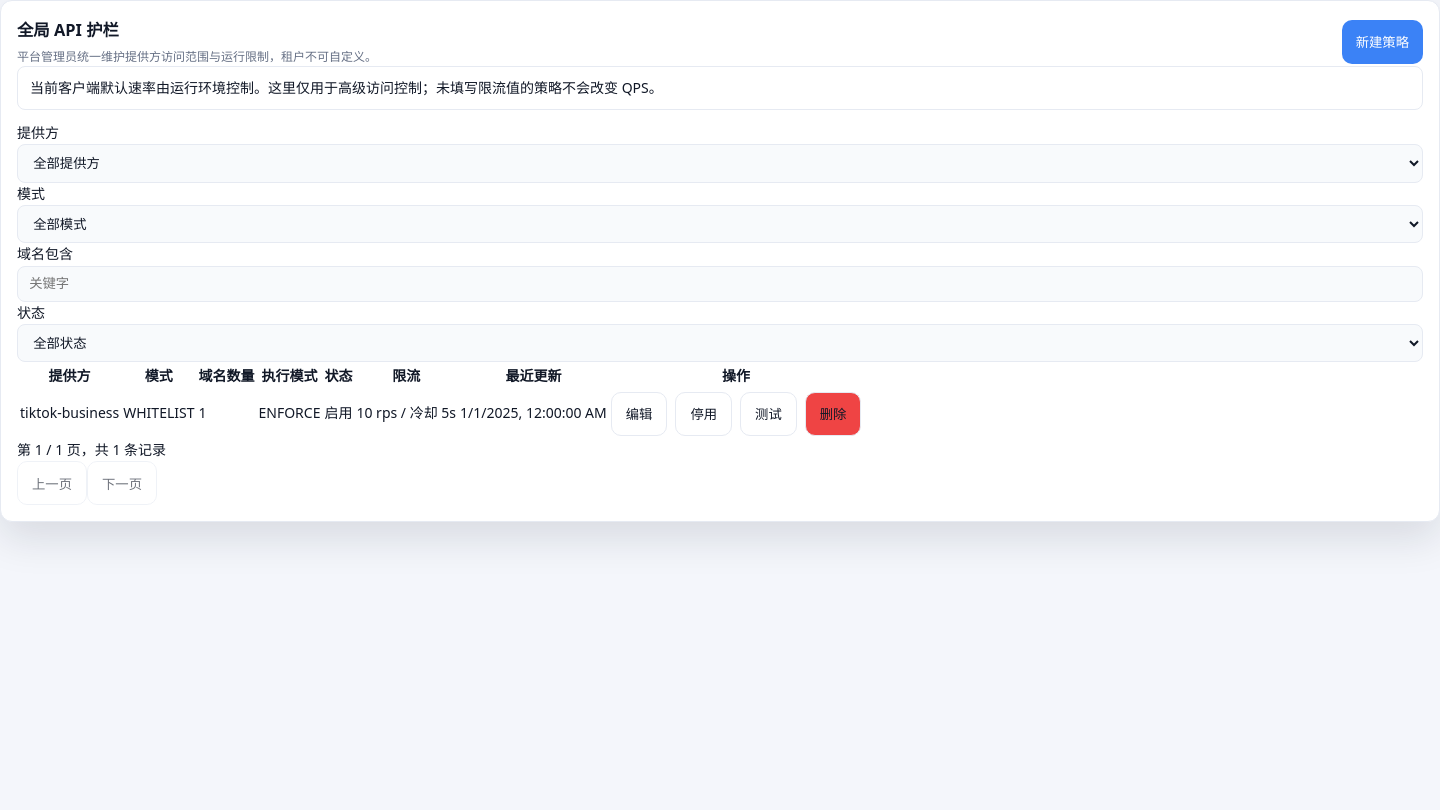
Scenario: PlatformPolicies page › reverts optimistic toggle on failure
Check: the row "tiktok-business" is shown, box x1=19 y1=391 x2=862 y2=437
What coordinates should you click on to do the following:
click the button "停用"
I would click on:
 (704, 414)
Its box is x1=675 y1=392 x2=732 y2=436.
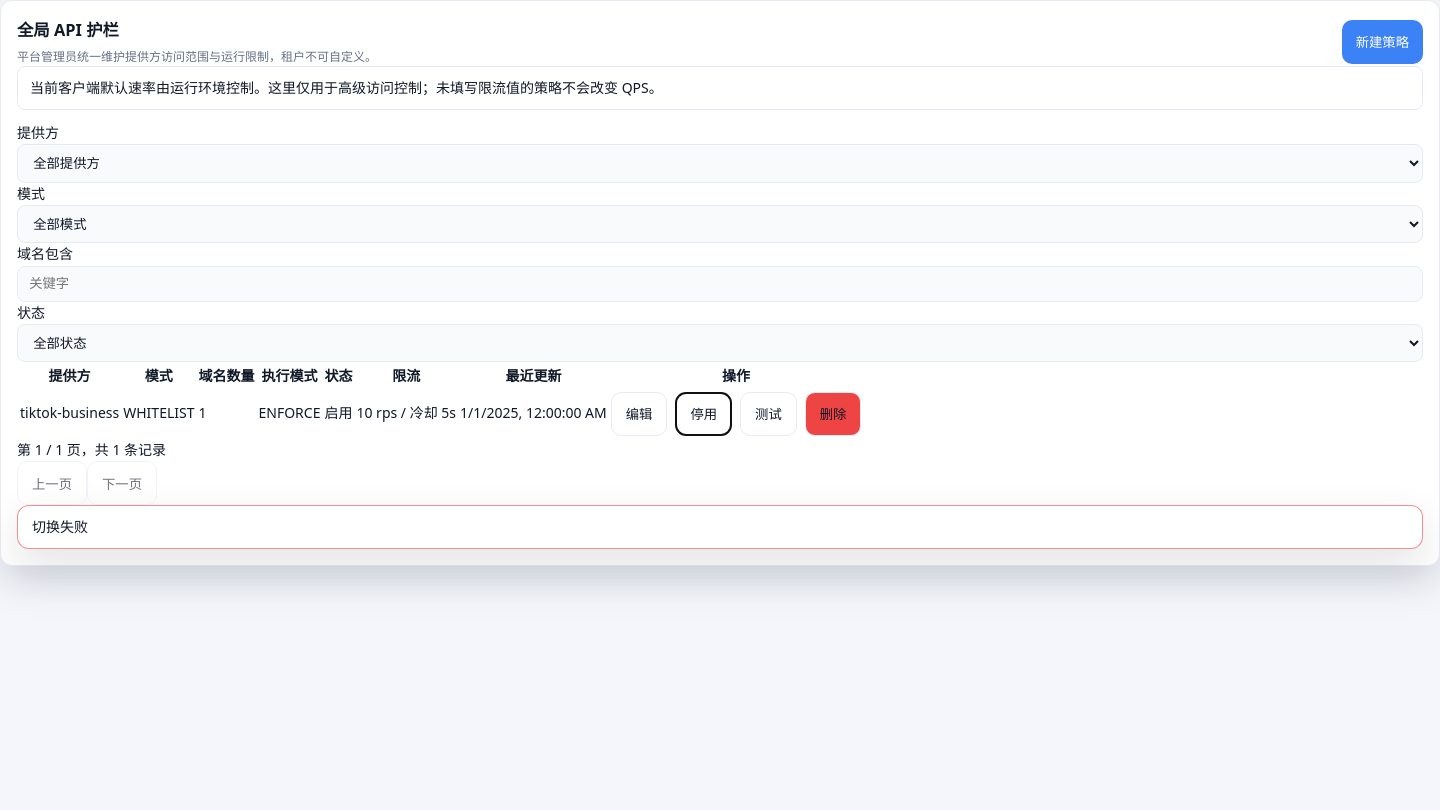
Check: the text "切换失败" is shown, box x1=17 y1=505 x2=1423 y2=549
